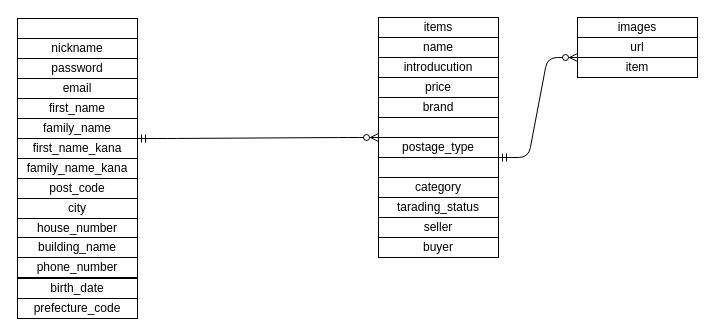
Image size: 715x336. Some labels were removed from this diagram. The centre of each missing label's shape, as x and y in pixels:
"item_condition" belongs at (x=438, y=127).
"postage_day" belongs at (x=438, y=167).
"users" belongs at (x=77, y=28).
